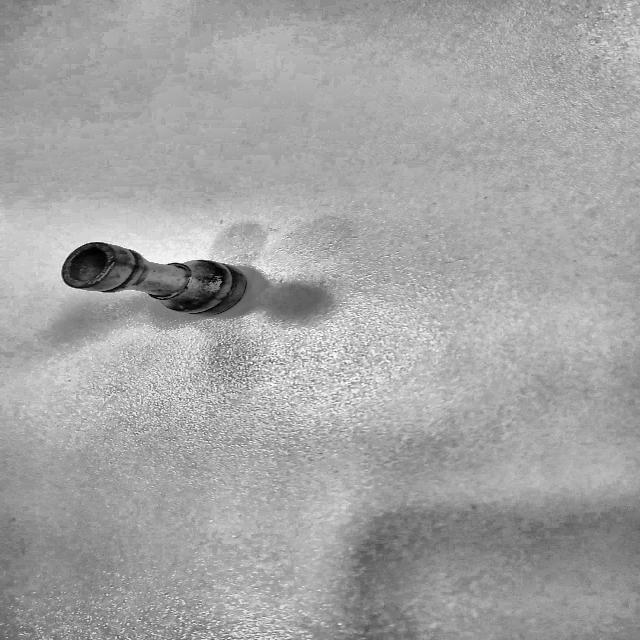black-rook: (52, 239, 278, 320)
